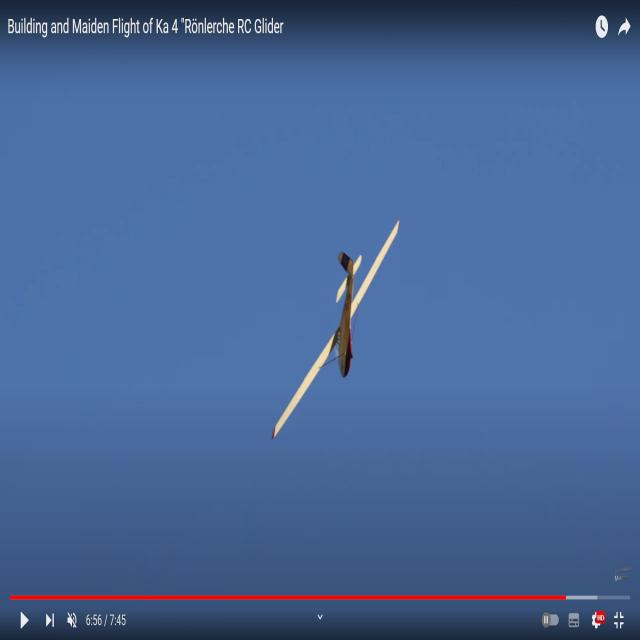iha: (273, 209, 401, 431)
